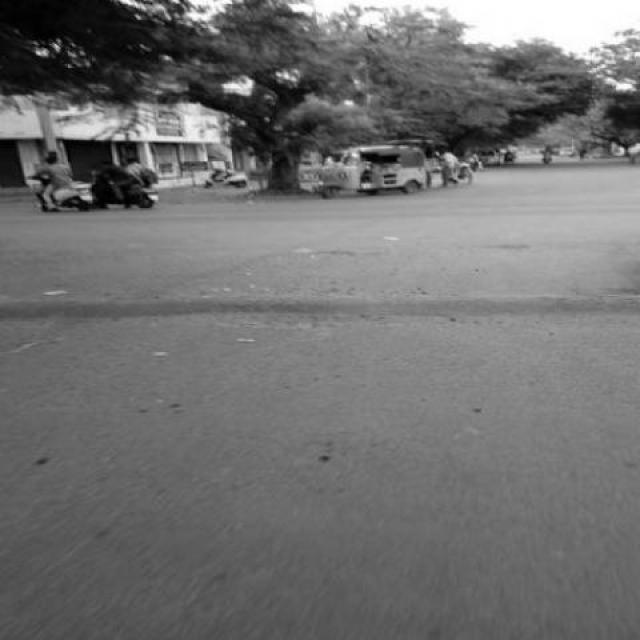Unmarked Bump: (1, 290, 639, 328)
